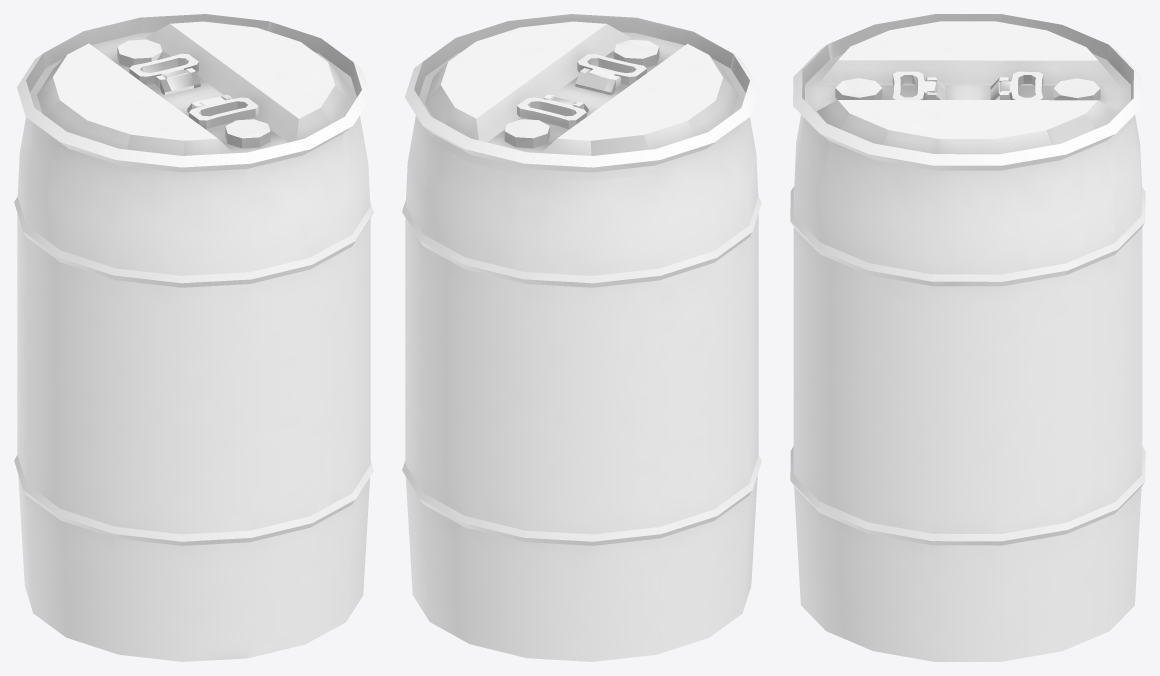
File: Barrel100.glb
3 renders of one model, left to right at view 1: azimuth 30°, elevation 25°; view 2: azimuth 150°, elevation 25°; view 3: azimuth 270°, elevation 25°, orthographic.
Visible parts, largest first — view 1: Barrel100, Barrel100.001; view 2: Barrel100, Barrel100.001; view 3: Barrel100, Barrel100.001.
Part boxes in pixels (x1,y1,x2,y2): Barrel100: (14,14,373,661); Barrel100.001: (117,39,270,148); Barrel100: (402,14,761,661); Barrel100.001: (504,39,659,148); Barrel100: (790,14,1145,661); Barrel100.001: (835,71,1100,100).
Bounding box in the file's own units: 0.4751 × 0.7542 × 0.4751.
Materials: 1 (1 with a texture image).
